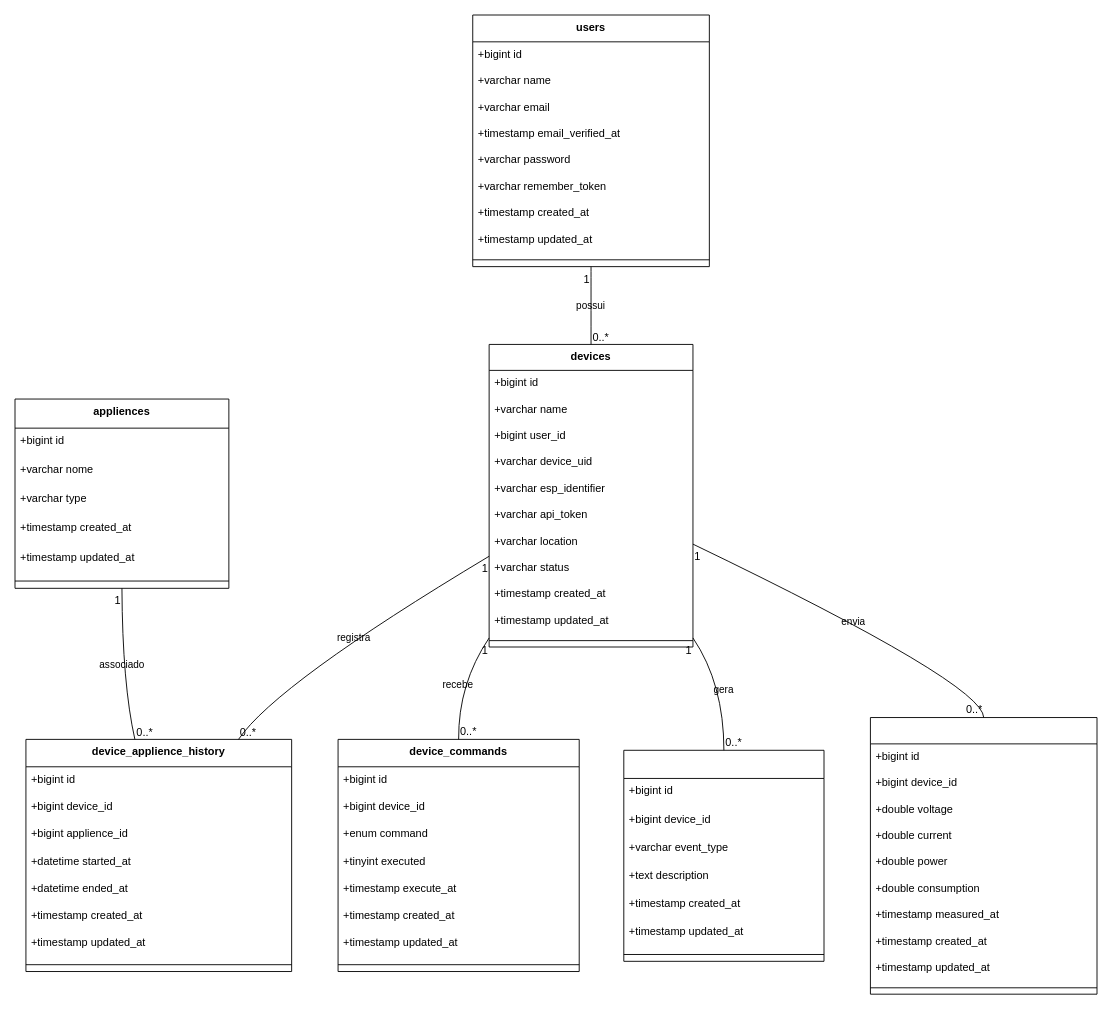
The diagram is 1112 pixels wide and 1009 high, and some of its shapes have lost their labels. The shapes that lost their labels are listed below. From the top down, each one's box as (x1, y1, x2, y2) in pixels, then its label:
(623, 749, 824, 961): events
(870, 717, 1097, 994): telemetries
